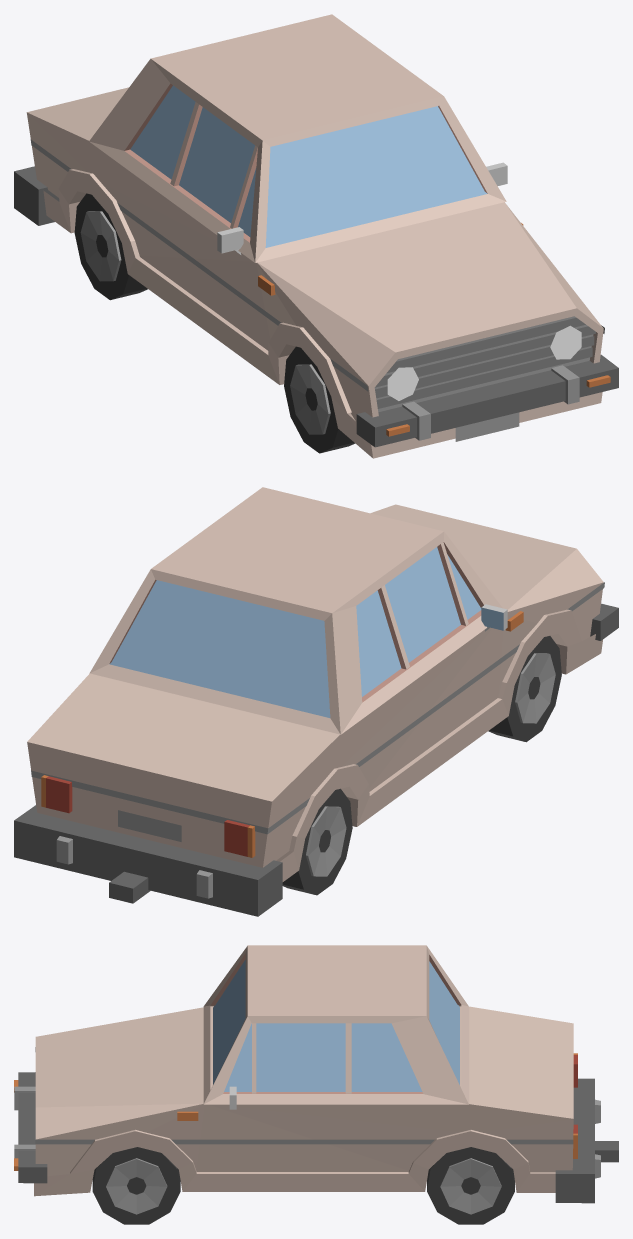
File: transport_old_006.fbx
3 renders of one model, top to bottom at view 1: azimuth 30°, elevation 25°; view 2: azimuth 150°, elevation 25°; view 3: azimuth 270°, elevation 25°, orthographic. The views are drawn at different scales.
Visible parts, largest first — view 1: transport_old_006; view 2: transport_old_006; view 3: transport_old_006.
Boxes of the visible parts, x1,y1,x2,y2 form: transport_old_006: [14, 14, 618, 458]; transport_old_006: [14, 487, 618, 916]; transport_old_006: [14, 945, 618, 1224].
Bounding box in the file's own units: 148 × 124 × 339.
